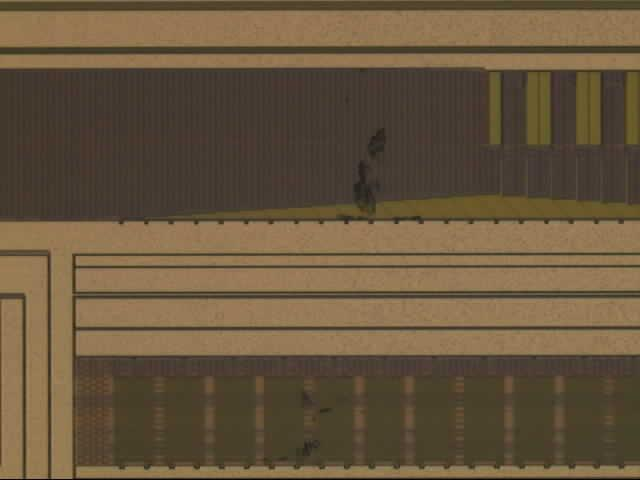PO CONTAMINATION: (267, 122, 428, 469)
